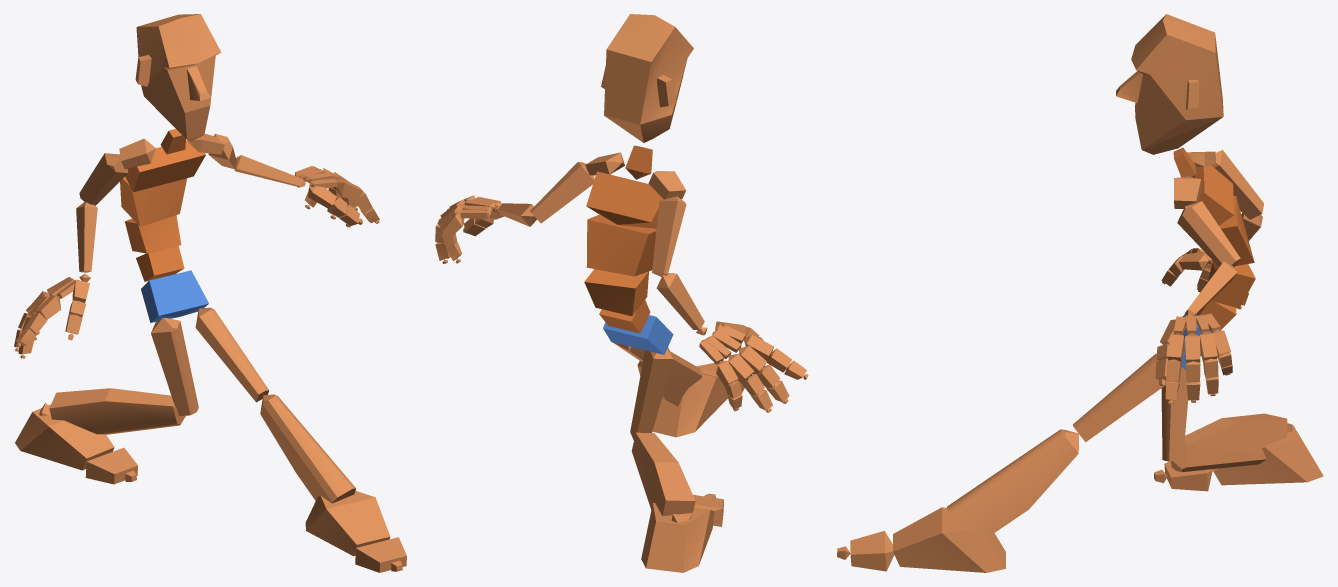
The picture shows the model from 3 angles, left to right: view 1: azimuth 30°, elevation 25°; view 2: azimuth 150°, elevation 25°; view 3: azimuth 270°, elevation 25°; orthographic projection. The views are drawn at different scales.
Parts seen in each view (by area): view 1: BOPED_Head, BOPED_R_leg, BOPED_L_leg, BOPED_R_foot01, BOPED_R_foot, BOPED_R_legup, Bone01, BOPED_L_legup, Bone04, Bone05, Bone03, BOPED_R_arm_upper (+8 smaller); view 2: BOPED_Head, BOPED_R_foot, Bone04, BOPED_R_leg, Bone05, BOPED_R_foot01, Bone03, BOPED_R_legup, BOPED_R_arm_upper, BOPED_L_arm_upper, Bone01, BOPED_R_arm_fore (+7 smaller); view 3: BOPED_Head, BOPED_L_leg, BOPED_R_foot01, BOPED_R_leg, BOPED_R_foot, BOPED_L_legup, BOPED_L_arm_upper, BOPED_R_legup, Bone05, BOPED_R_foot_toe04, BOPED_R_arm_upper, Bone03 (+4 smaller).
Part boxes in pixels (x1,y1,x2,y2): BOPED_Head: (135, 14, 221, 140); BOPED_R_leg: (49, 388, 185, 434); BOPED_L_leg: (260, 394, 356, 503); BOPED_R_foot01: (305, 491, 390, 556); BOPED_R_foot: (15, 404, 114, 470); BOPED_R_legup: (151, 318, 198, 416); Bone01: (141, 270, 208, 322); BOPED_L_legup: (195, 307, 268, 402); Bone04: (120, 176, 186, 226); Bone05: (125, 140, 205, 192); Bone03: (124, 215, 181, 253); BOPED_R_arm_upper: (79, 153, 128, 205); BOPED_Head: (601, 14, 693, 142); BOPED_R_foot: (641, 502, 714, 572); Bone04: (586, 214, 656, 276); BOPED_R_leg: (631, 432, 695, 516); Bone05: (586, 171, 663, 228); BOPED_R_foot01: (652, 373, 727, 437); Bone03: (584, 269, 648, 316); BOPED_R_legup: (630, 347, 673, 440); BOPED_R_arm_upper: (652, 196, 686, 276); BOPED_L_arm_upper: (530, 162, 594, 223); Bone01: (603, 315, 673, 354); BOPED_R_arm_fore: (656, 273, 704, 329); BOPED_Head: (1116, 14, 1223, 154); BOPED_L_leg: (947, 429, 1078, 536); BOPED_R_foot01: (893, 507, 1005, 572); BOPED_R_leg: (1171, 413, 1287, 472); BOPED_R_foot: (1212, 424, 1323, 485); BOPED_L_legup: (1073, 353, 1170, 442); BOPED_L_arm_upper: (1177, 201, 1240, 266); BOPED_R_legup: (1161, 367, 1188, 461); Bone05: (1194, 165, 1233, 225); BOPED_R_foot_toe04: (850, 531, 894, 571); BOPED_R_arm_upper: (1211, 150, 1264, 219); Bone03: (1208, 261, 1255, 308).
Size of the model in its own units: 130 by 163 by 142.
